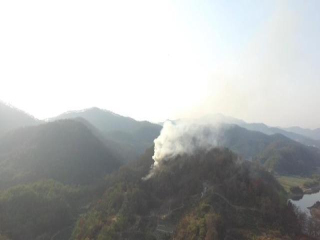smoke: (140, 118, 222, 182)
